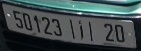0: (115, 23, 125, 43), (23, 12, 33, 31)
1: (33, 14, 41, 34)
2: (40, 15, 52, 35), (104, 23, 115, 42)
3: (52, 18, 62, 38)
5: (12, 9, 24, 30)
a: (76, 18, 85, 42)
